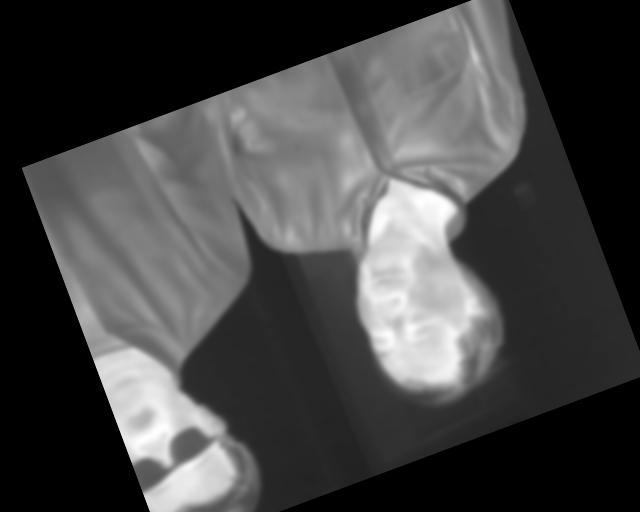face: (337, 214, 524, 425), (104, 347, 273, 512)
